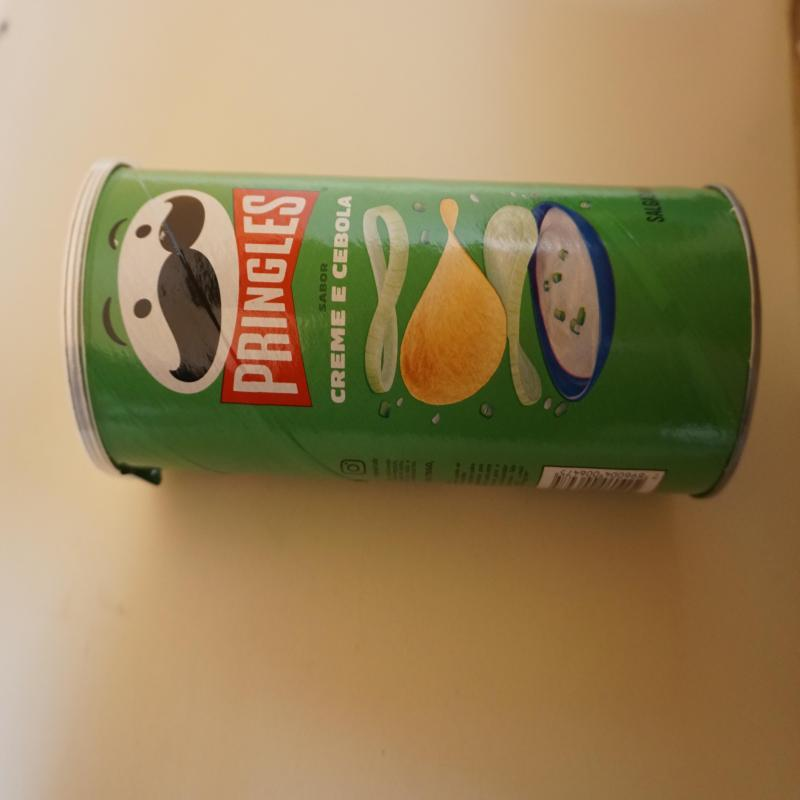Pringles: (65, 162, 764, 501)
